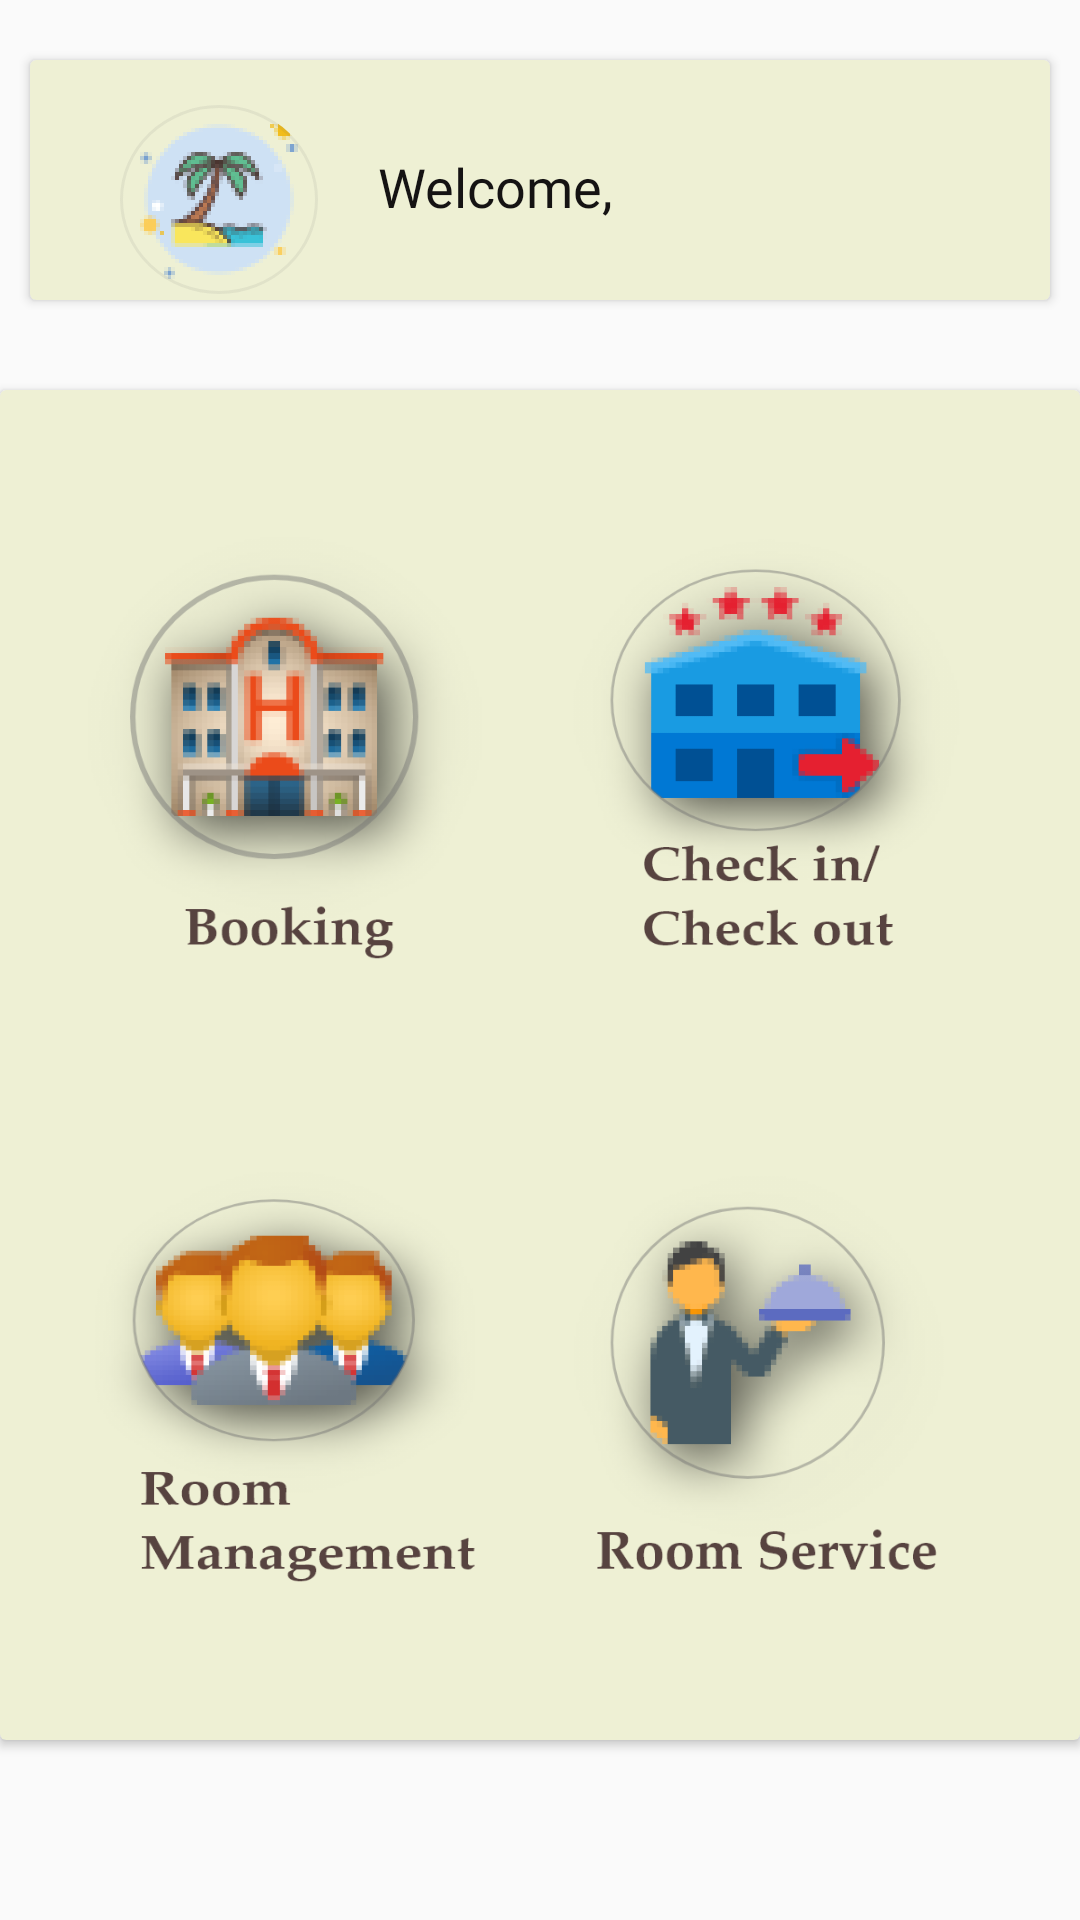

Where icons sit on this 1080 x 1920 app screen, as bbox=[x1, y1, x2, y2]:
beach: bbox=[140, 124, 298, 279]
